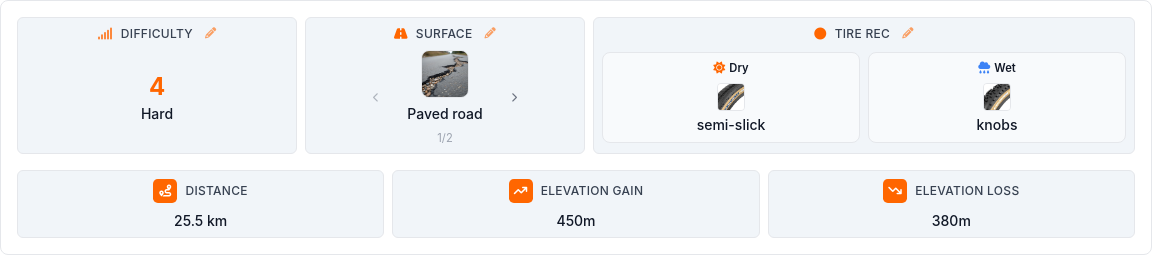
Test case: RouteInfoCard › Editing Functionality › Difficulty Editor › should open difficulty editor when clicking on difficulty item
The width and height of the screenshot is (1152, 272).
Click the element with class "editable" showing "Difficulty 4 Hard".
click(157, 85)  # box [17, 17, 297, 154]
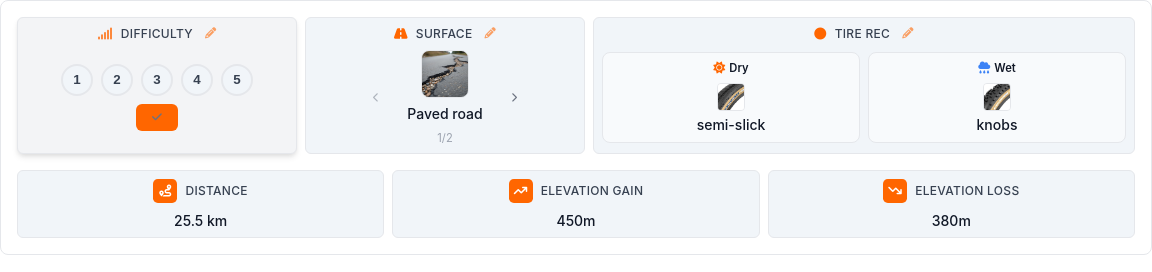
Now the element with class "difficulty-editor" is shown, box [61, 64, 253, 131]
